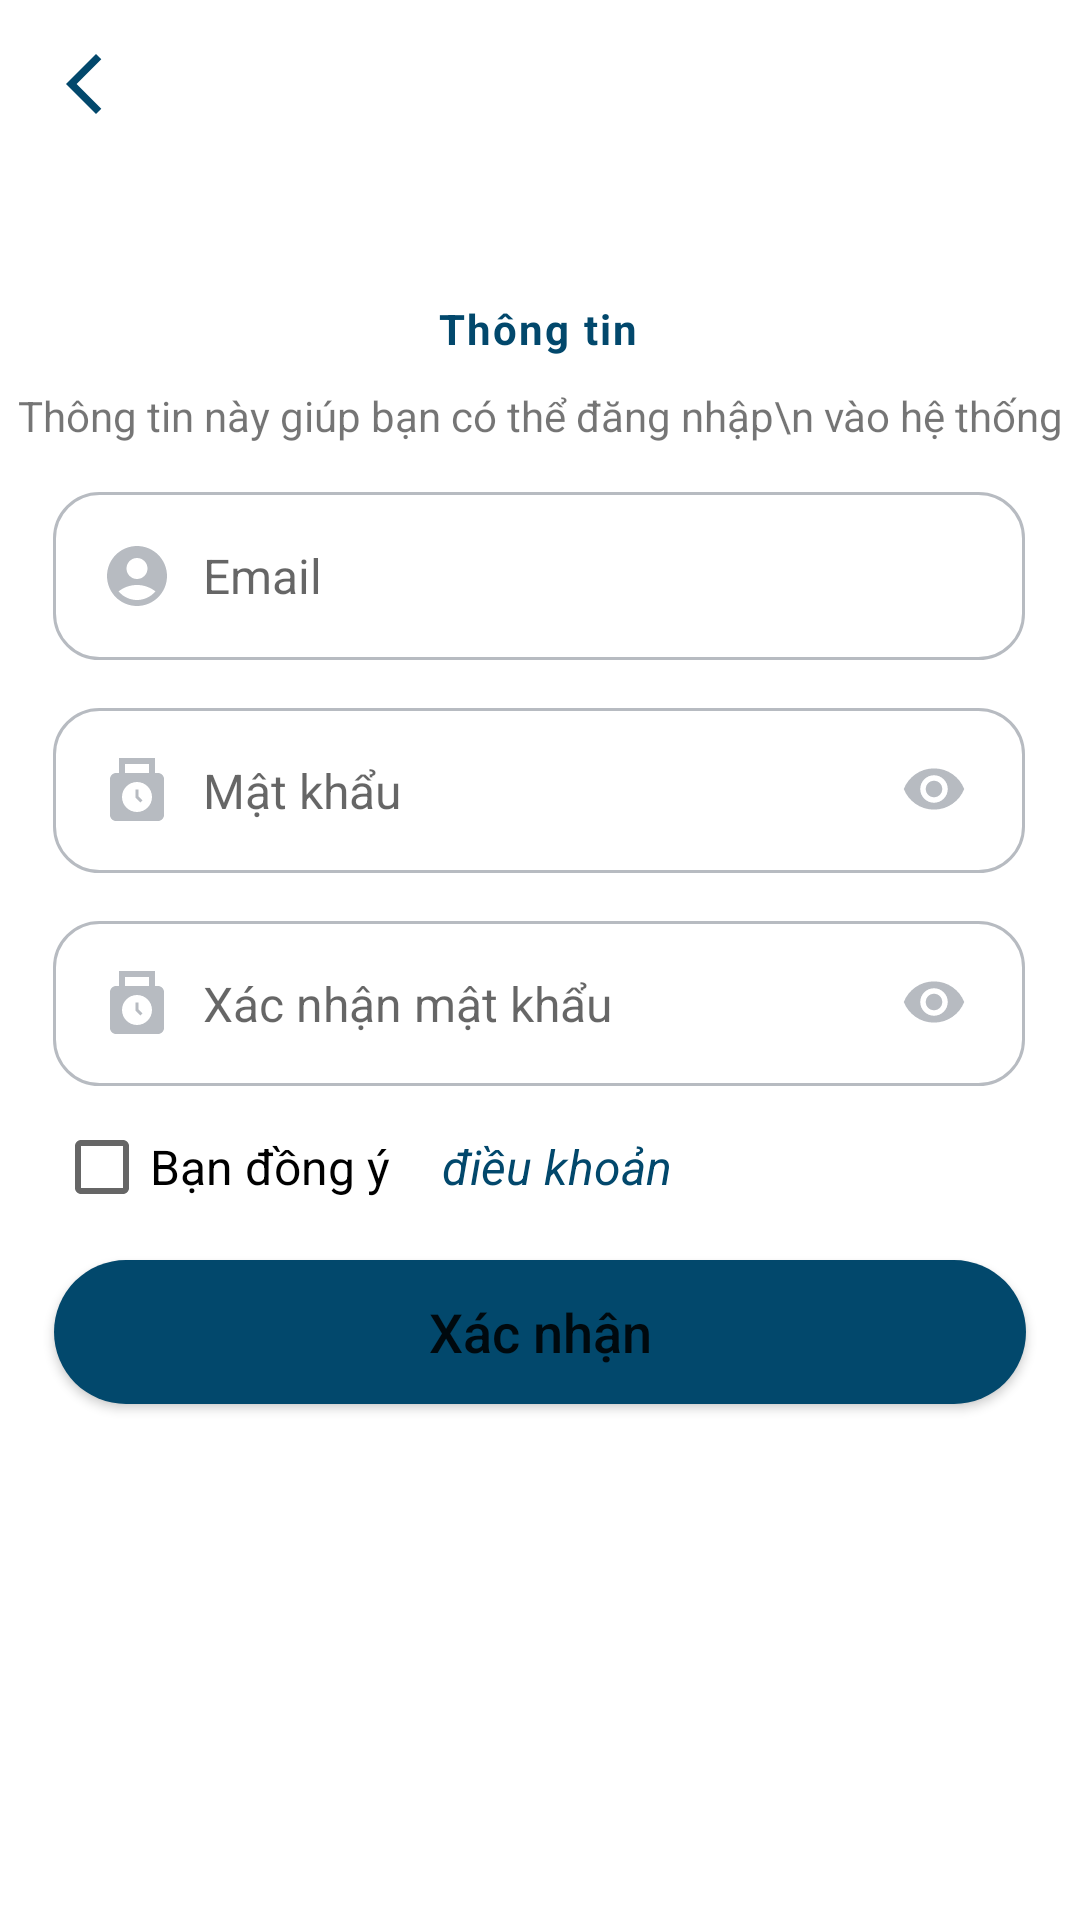

Named icons in this screenshot (1080x1920) and their centers, (x=x, y=y):
back: (x=83, y=84)
eye: (x=934, y=789), (x=934, y=1002)
